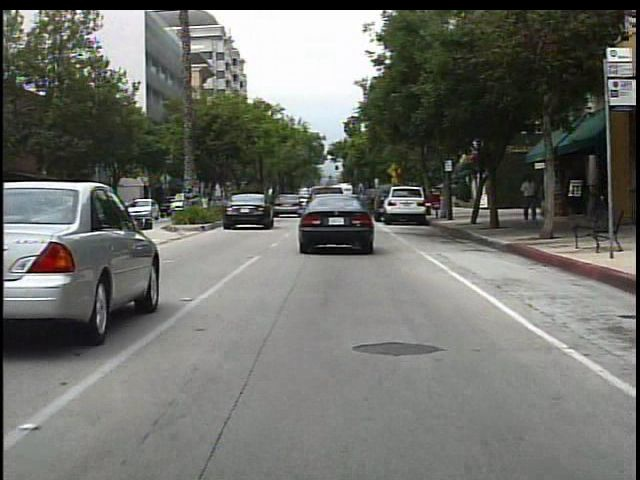person: (518, 174, 542, 226)
